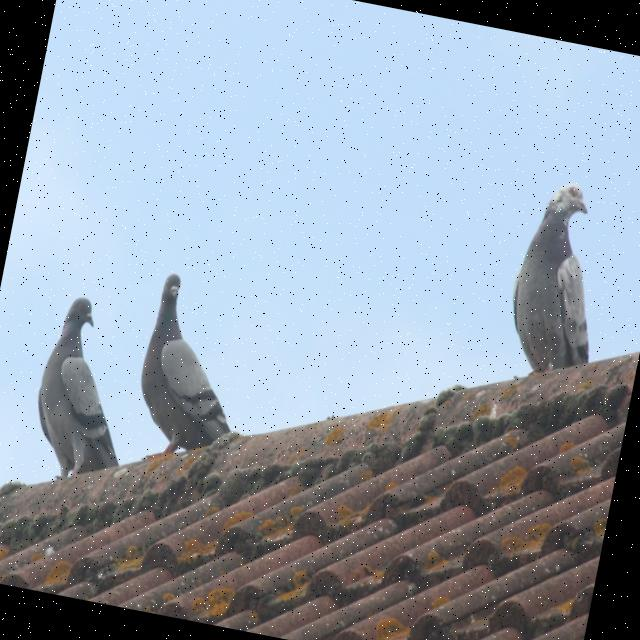bird: (122, 268, 262, 480), (496, 176, 624, 390), (21, 290, 150, 492)
